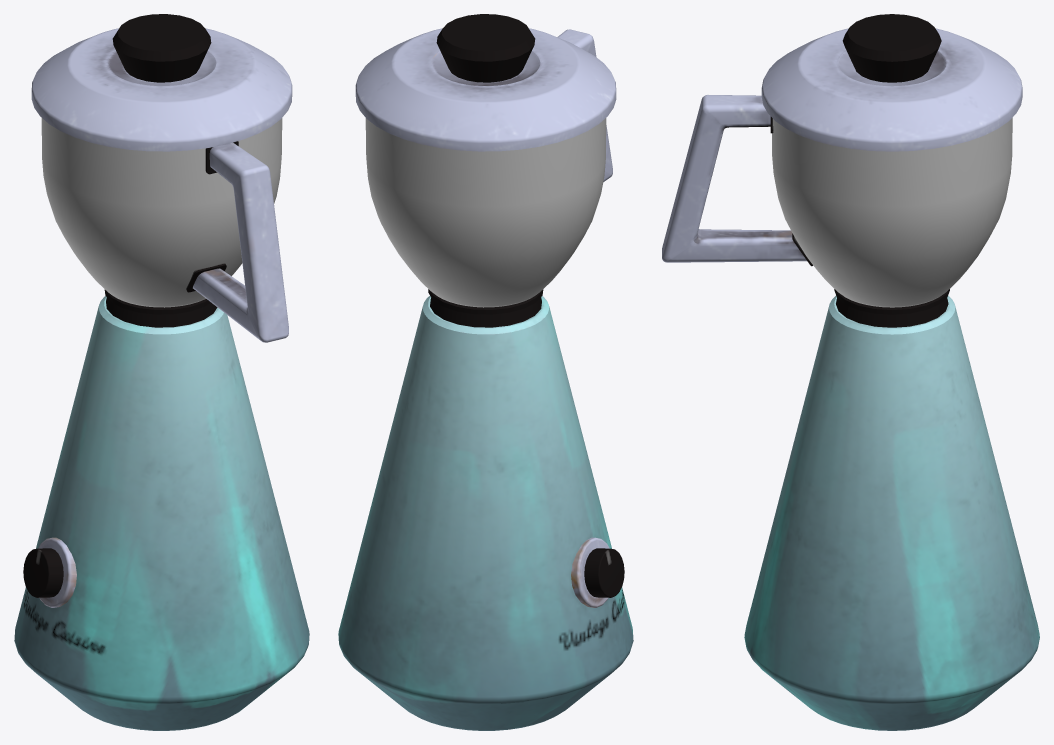
File: SM_Blender.fbx
3 renders of one model, left to right at view 1: azimuth 30°, elevation 25°; view 2: azimuth 150°, elevation 25°; view 3: azimuth 270°, elevation 25°, orthographic.
Visible parts, largest first — view 1: SM_Blender_LOD0; view 2: SM_Blender_LOD0; view 3: SM_Blender_LOD0.
Part boxes in pixels (x1=…): SM_Blender_LOD0: x1=14, y1=14, x2=309, y2=730; SM_Blender_LOD0: x1=338, y1=14, x2=633, y2=730; SM_Blender_LOD0: x1=662, y1=14, x2=1039, y2=730.
Bounding box in the file's own units: 29.72 × 37.68 × 73.07.
2 materials, 1 textured.
